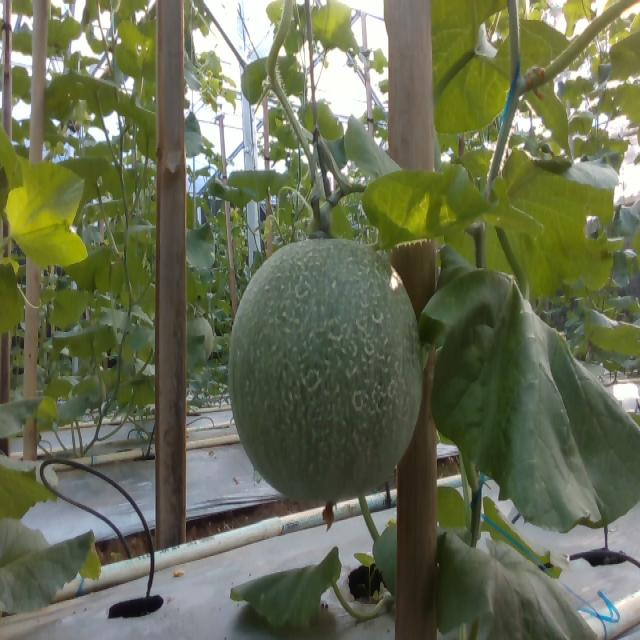melon: (229, 239, 423, 503)
